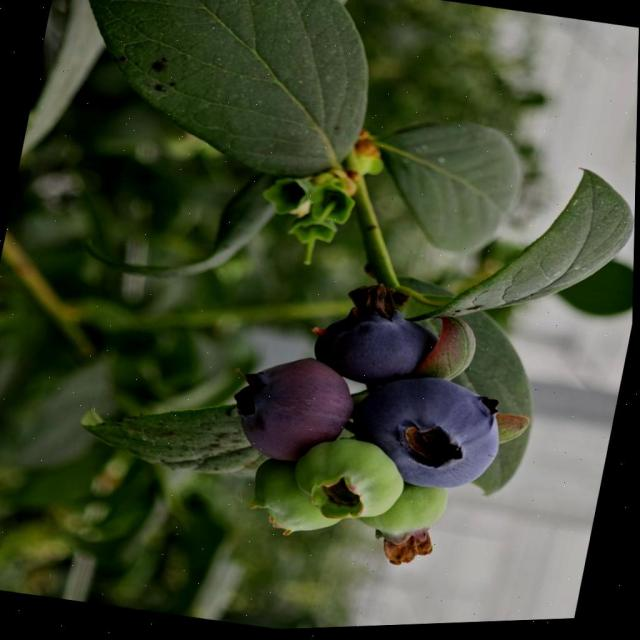RipeBlueBerry: (345, 364, 516, 507), (308, 298, 446, 400)
Semi-RipeBlueBerry: (226, 346, 364, 479)
UnripeBlueBerry: (287, 430, 417, 536)
